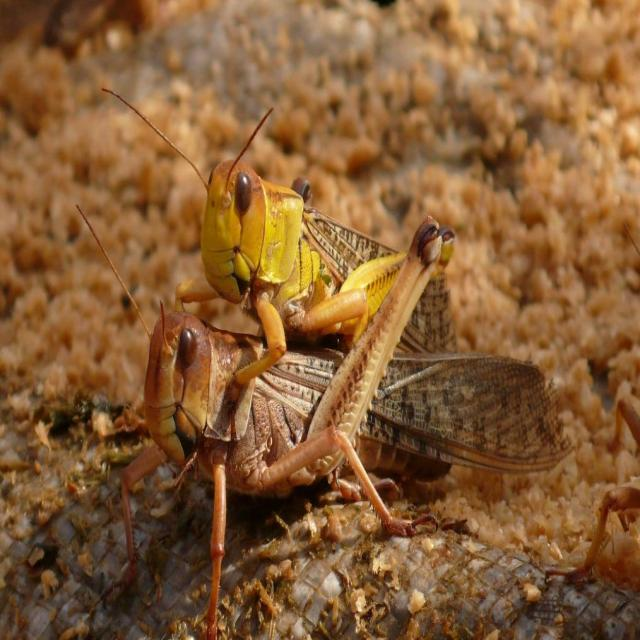ZhaMeng: (72, 183, 584, 604), (96, 67, 480, 356)
